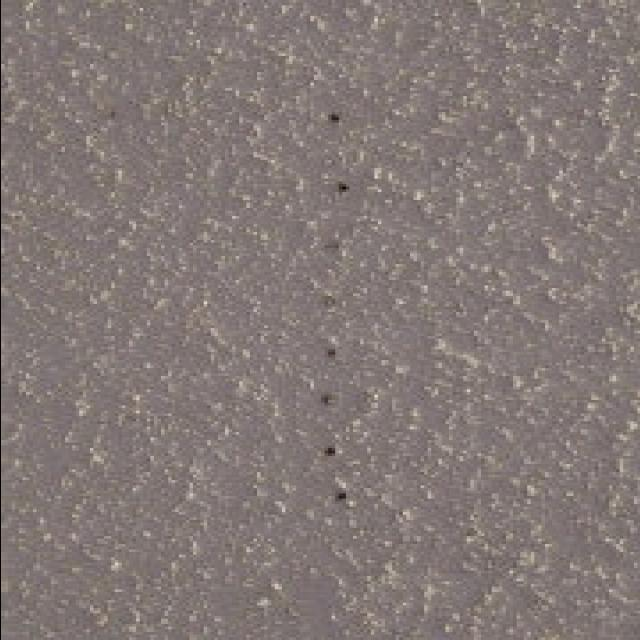Crack: (330, 486, 350, 508), (328, 110, 348, 130), (321, 292, 340, 311), (325, 234, 340, 252), (325, 344, 338, 359), (318, 392, 334, 404), (325, 446, 335, 458), (338, 181, 347, 194)
